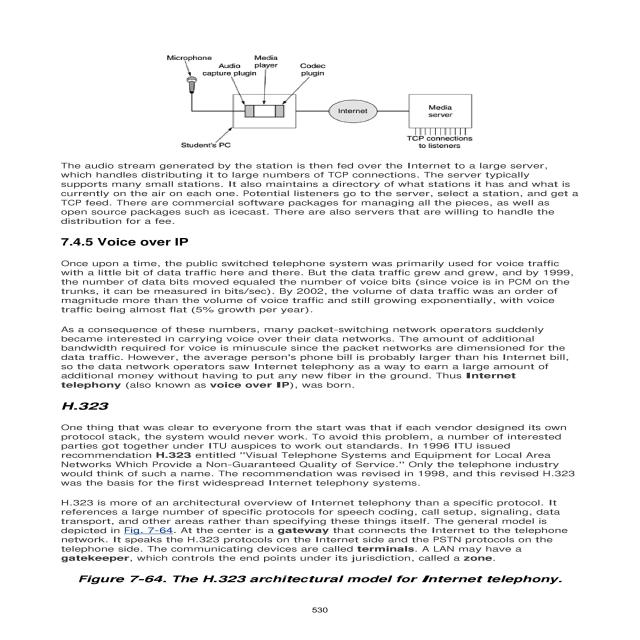diagram: (82, 42, 520, 163)
